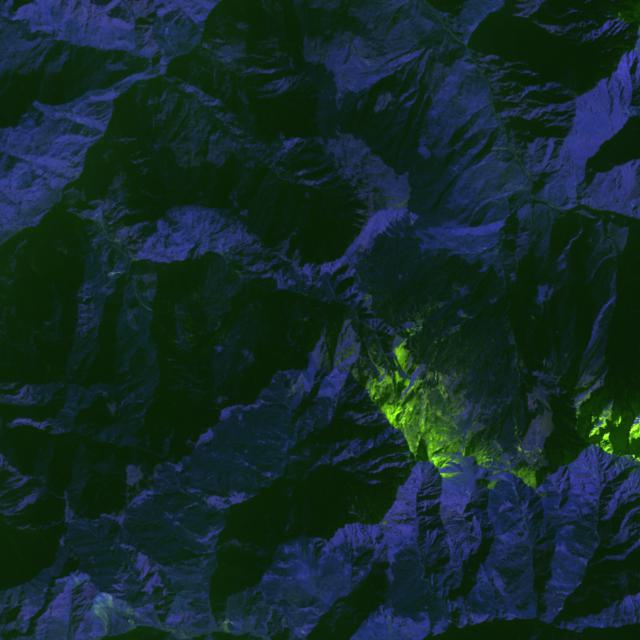landslides: (34, 339, 63, 383), (105, 209, 140, 228), (103, 136, 125, 165), (4, 307, 23, 328), (177, 590, 209, 601), (266, 612, 281, 634), (289, 621, 308, 638), (170, 626, 193, 640), (28, 250, 40, 275), (154, 600, 164, 629), (71, 571, 86, 590), (111, 570, 135, 581), (90, 205, 103, 223), (588, 327, 600, 345), (177, 598, 185, 624), (148, 238, 157, 261), (160, 591, 176, 600), (401, 214, 412, 227), (442, 475, 452, 489), (163, 247, 172, 262), (388, 616, 395, 635), (491, 143, 510, 150), (495, 134, 506, 145), (211, 611, 225, 619), (25, 233, 32, 249), (218, 620, 226, 634), (127, 250, 136, 262)
